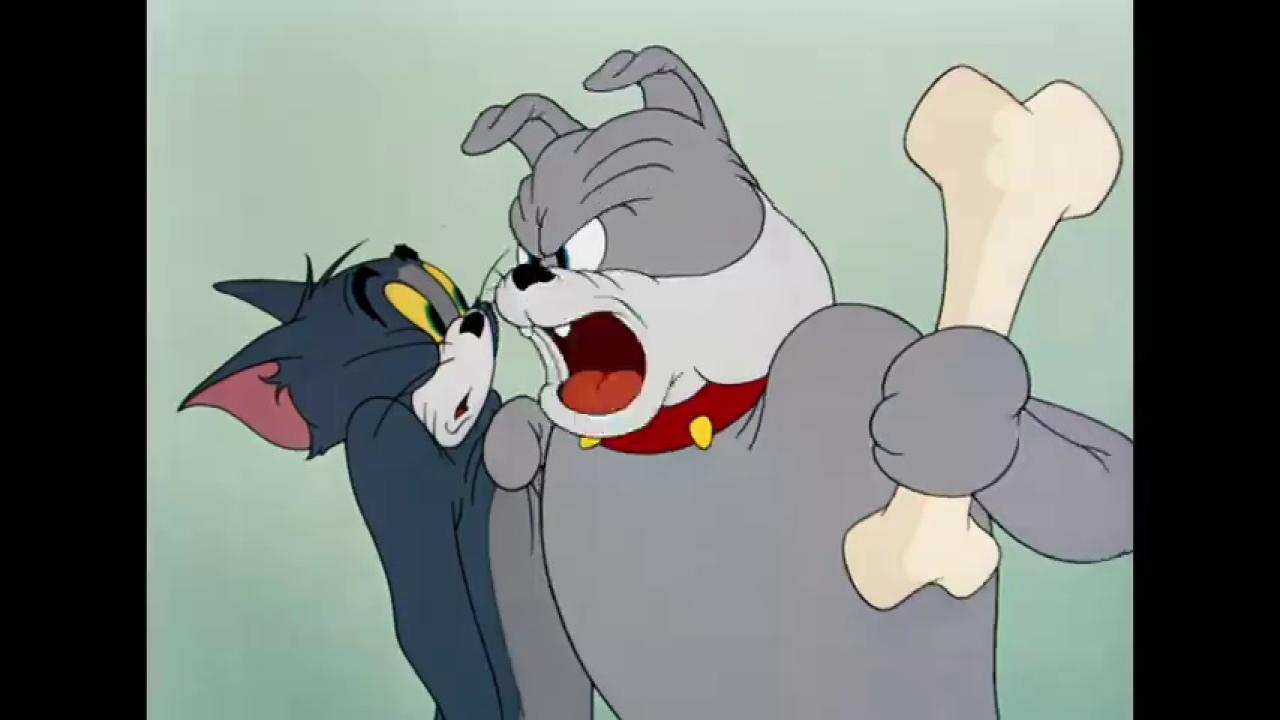Tom: (178, 241, 595, 720)
